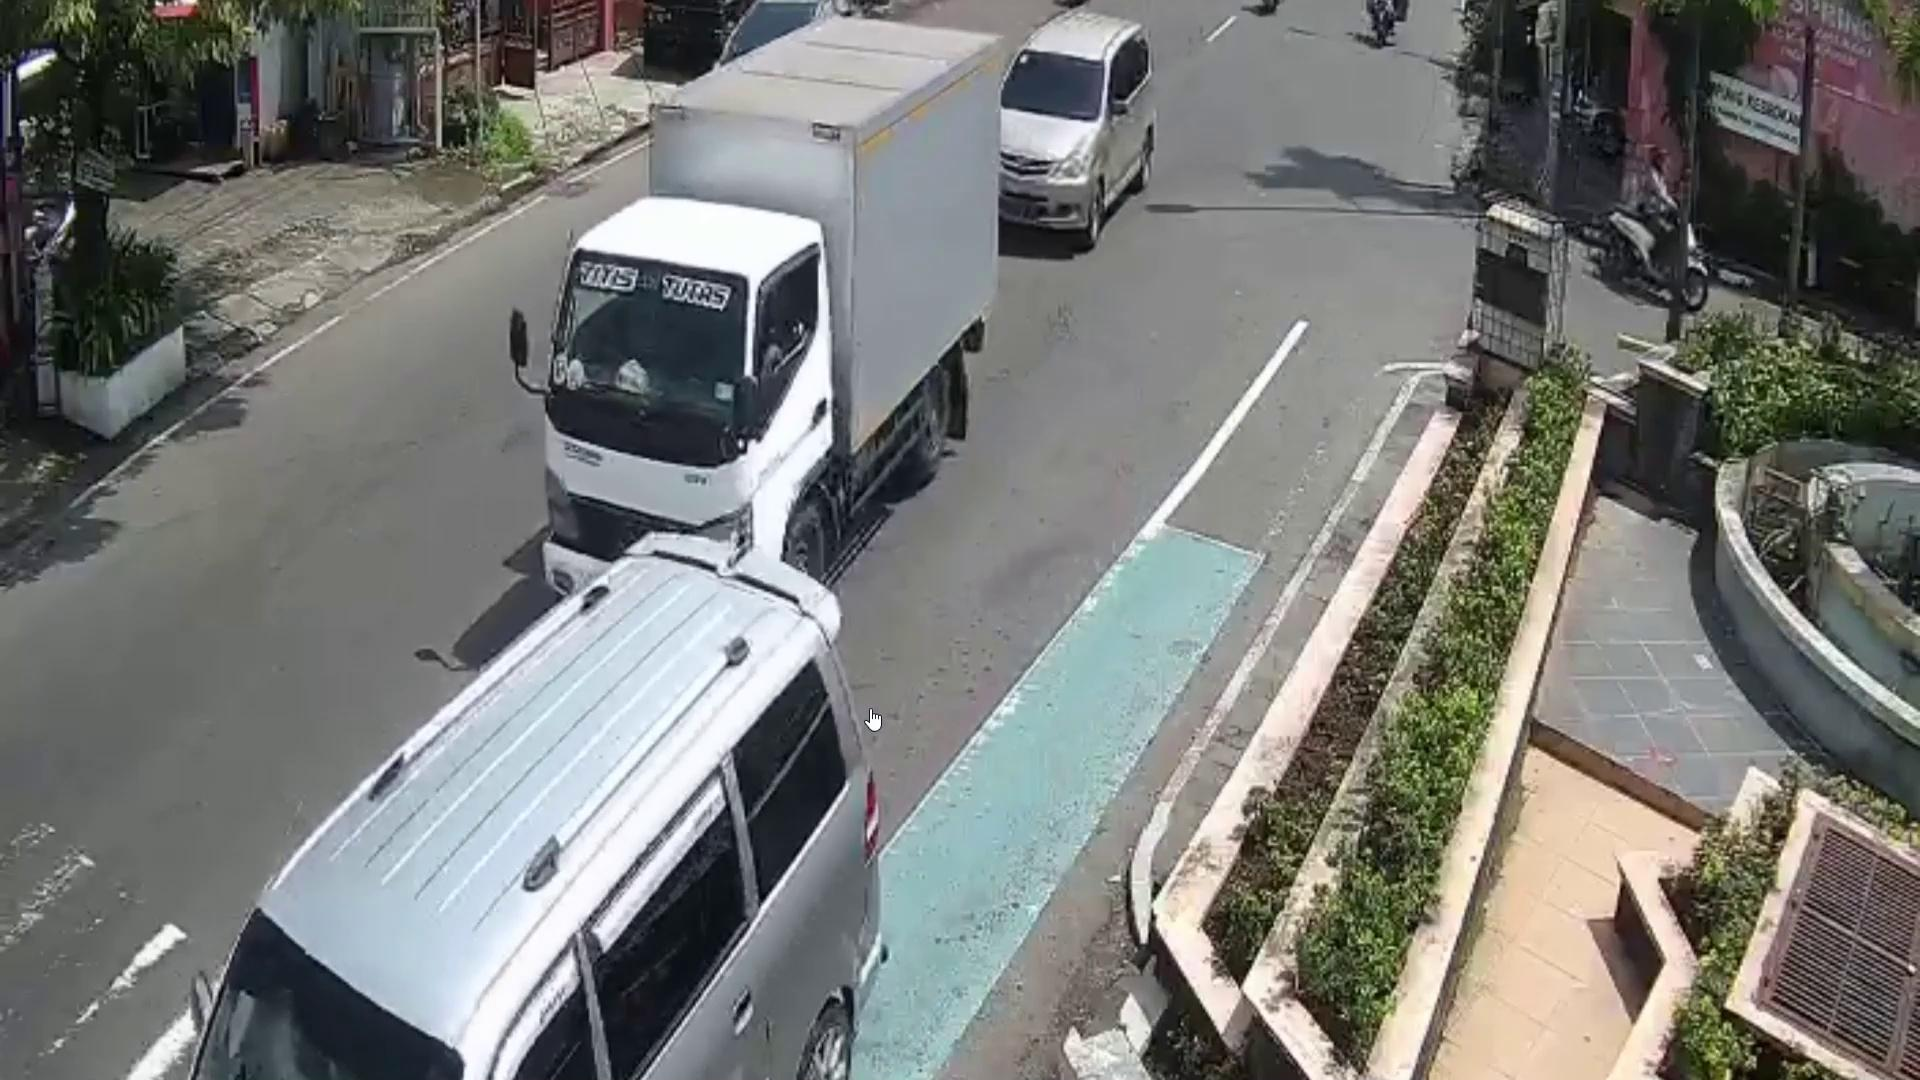car: (191, 533, 889, 1080), (1001, 8, 1155, 253)
motorbike: (1597, 194, 1717, 311)
truck: (546, 20, 998, 611)
